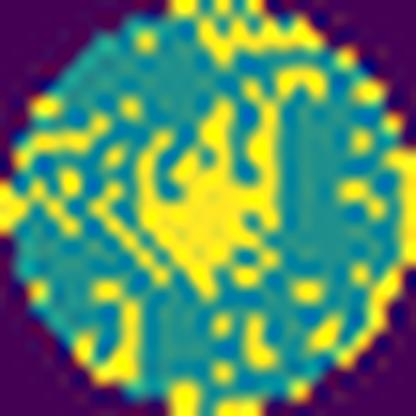Center: (132, 64, 328, 304)
